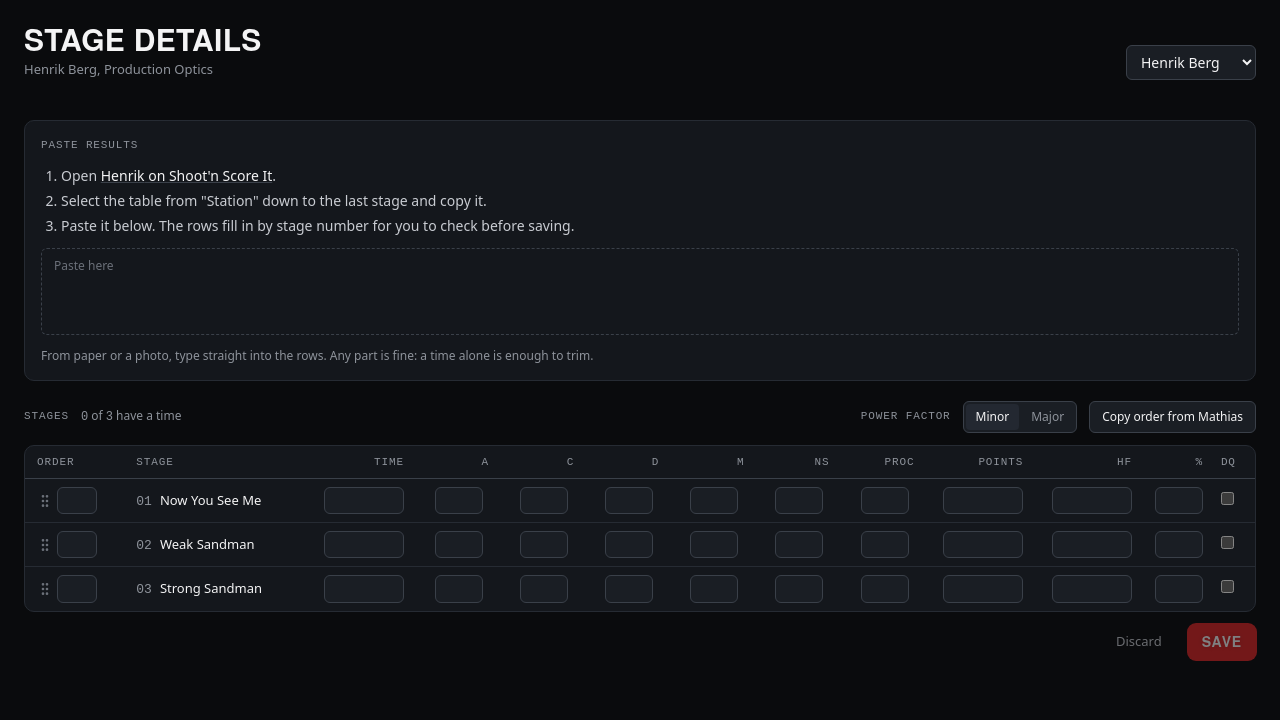
Test: Stage details › copies another shooter's order without saving, and blocks Save on a duplicate
Click the button "Copy order from Mathias": (1173, 417) [1089,401,1256,433]
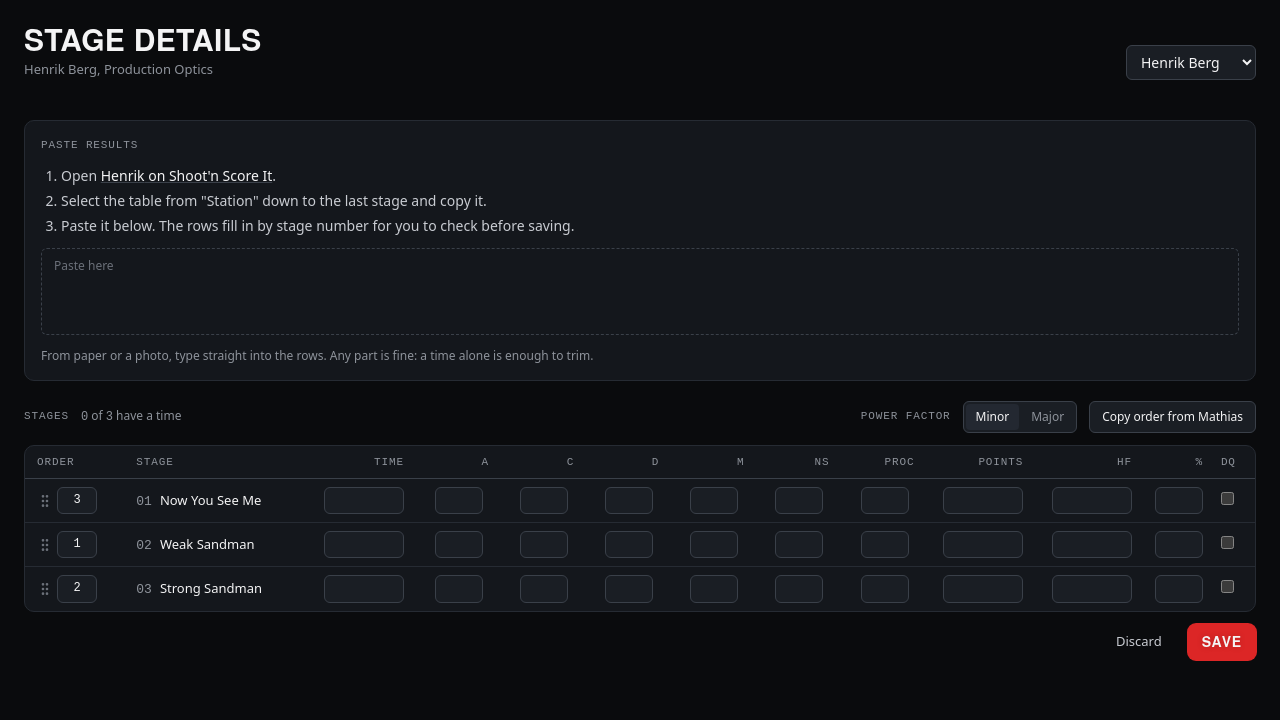
Expected: the field named "Order, stage 02" holds "1", [57,531,97,558]
Now the field named "Order, stage 01" holds "3"
Replace the text in the field named "Order, stage 01" with "1": (77, 501) [57,487,97,514]
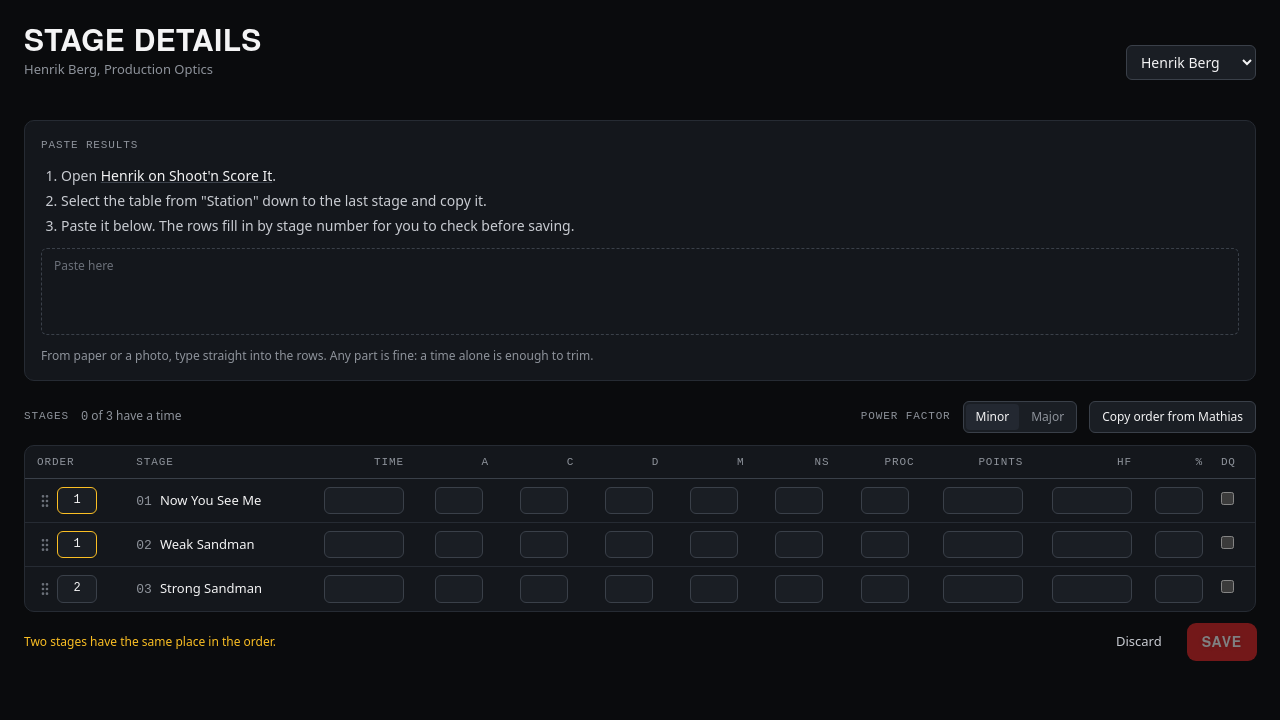
Now the text "Two stages have the same place in the order." is shown, box [24,633,276,650]
Now the button "Save" is disabled, box [1188,624,1256,660]
